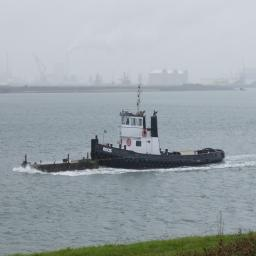tugboat: (90, 107, 228, 174)
